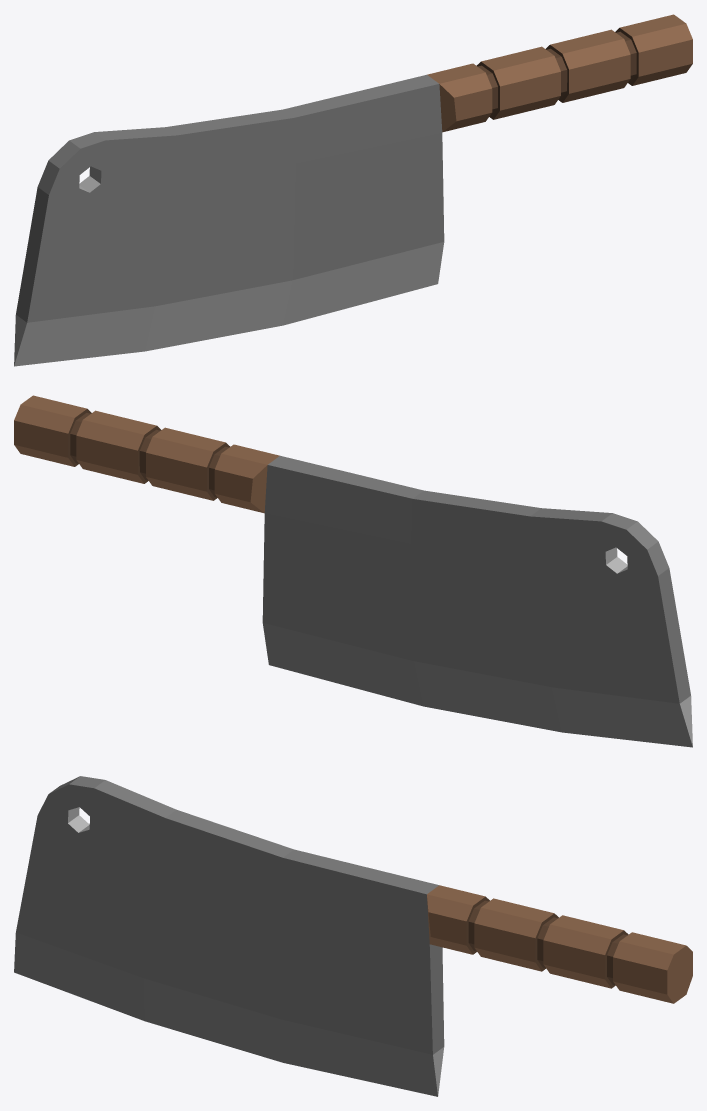
The model's file is Cleaver.fbx.
The picture shows the model from 3 angles, top to bottom: view 1: azimuth 30°, elevation 25°; view 2: azimuth 150°, elevation 25°; view 3: azimuth 330°, elevation 25°; orthographic projection.
Visible parts, largest first — view 1: Cleaver; view 2: Cleaver; view 3: Cleaver.
Boxes of the visible parts, left/top/right/bottom form: Cleaver: left=14, top=14, right=692, bottom=366; Cleaver: left=14, top=395, right=692, bottom=747; Cleaver: left=14, top=776, right=692, bottom=1096.
Bounding box in the file's own units: 61.22 × 20.55 × 4.08.
